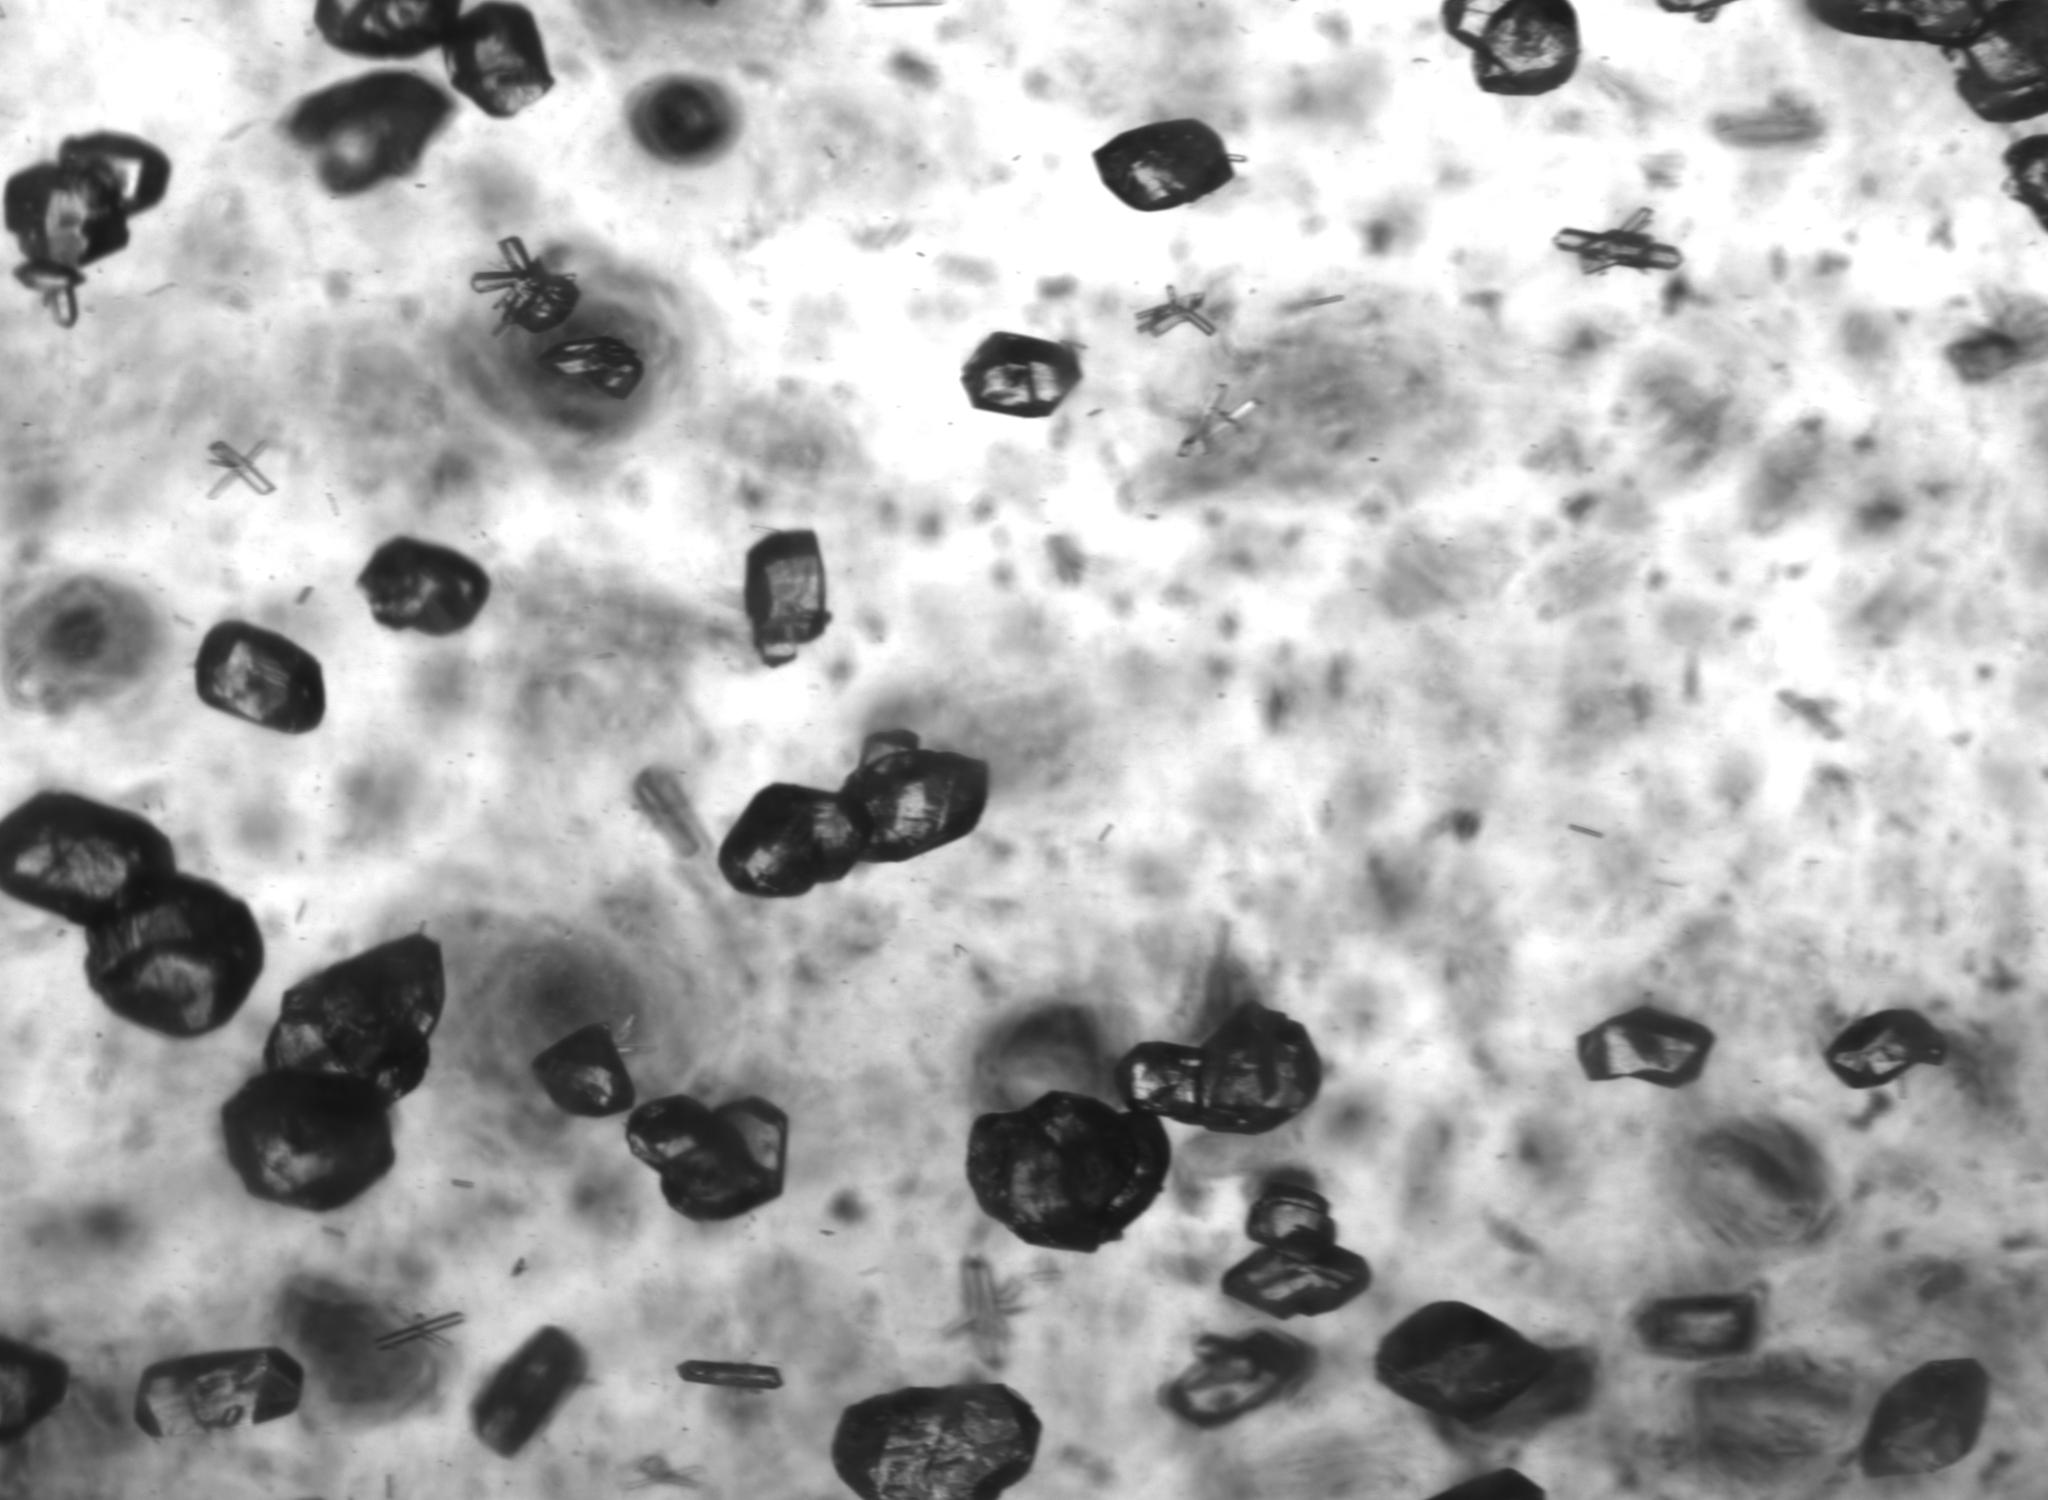crystal: (0, 794, 262, 1039), (719, 732, 987, 897), (967, 1091, 1170, 1252), (5, 132, 170, 326), (266, 934, 445, 1101), (1808, 0, 2048, 122), (1116, 1004, 1321, 1134), (221, 1069, 394, 1212), (832, 1382, 1040, 1500), (1375, 1301, 1555, 1425), (626, 1096, 789, 1220), (1857, 1358, 1989, 1478), (135, 1347, 304, 1438), (471, 1327, 587, 1455), (1162, 1330, 1315, 1427), (196, 622, 324, 733), (359, 533, 496, 635), (1442, 0, 1581, 95), (1092, 119, 1234, 212), (444, 5, 553, 118), (744, 530, 830, 666), (1221, 1242, 1372, 1319), (1577, 1007, 1714, 1088), (471, 235, 580, 334), (962, 331, 1081, 418), (1824, 1008, 1948, 1090), (533, 1028, 634, 1117), (1636, 1292, 1760, 1360), (1553, 208, 1682, 274), (315, 0, 461, 57), (0, 1336, 68, 1444), (1245, 1174, 1336, 1250), (537, 336, 644, 399), (2005, 134, 2048, 229), (1135, 288, 1218, 337), (207, 439, 277, 496), (375, 1311, 464, 1350), (677, 1360, 782, 1392)
